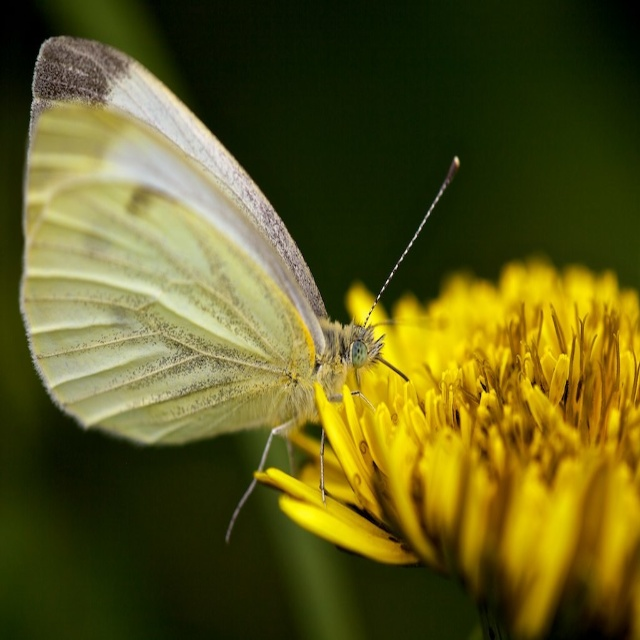Butterfly: (17, 37, 459, 543)
